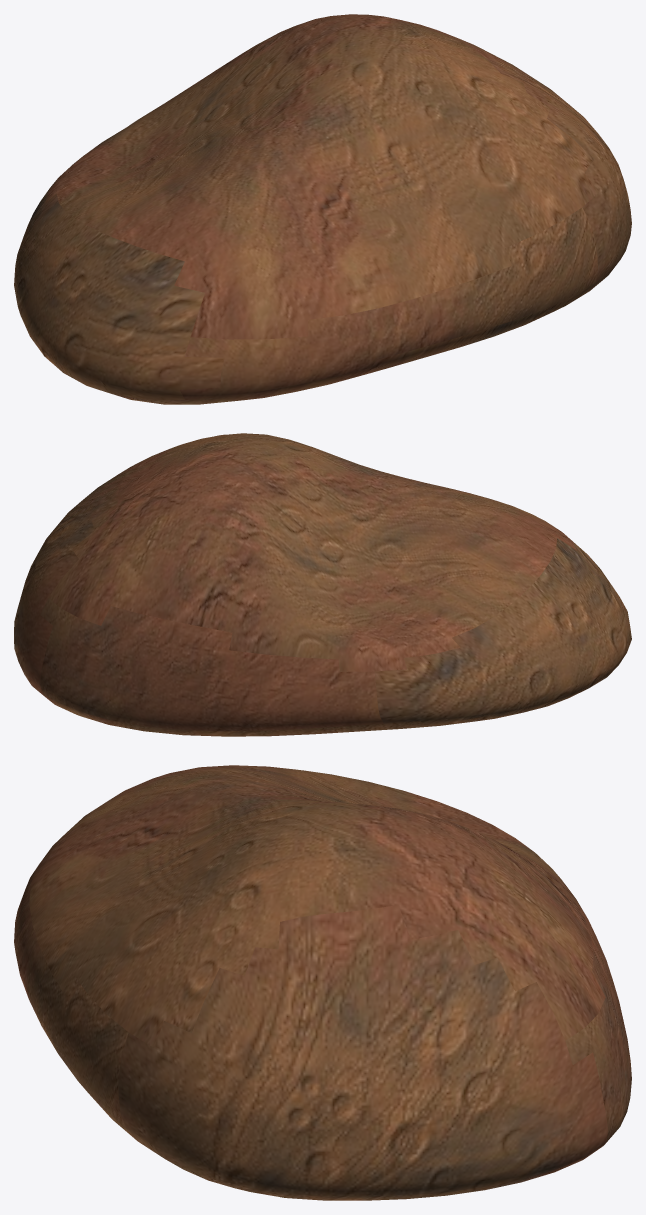
The model's file is MarsRock5.obj.
3 renders of one model, top to bottom at view 1: azimuth 30°, elevation 25°; view 2: azimuth 150°, elevation 25°; view 3: azimuth 270°, elevation 25°, orthographic. The views are drawn at different scales.
Parts seen in each view (by area): view 1: Rocks10; view 2: Rocks10; view 3: Rocks10.
Boxes of the visible parts, bbox=[...] form: Rocks10: bbox=[14, 14, 631, 404]; Rocks10: bbox=[14, 433, 631, 736]; Rocks10: bbox=[14, 765, 631, 1200].
Size of the model in its own units: 1.24 by 0.5418 by 0.9769.
1 material, 1 textured.
